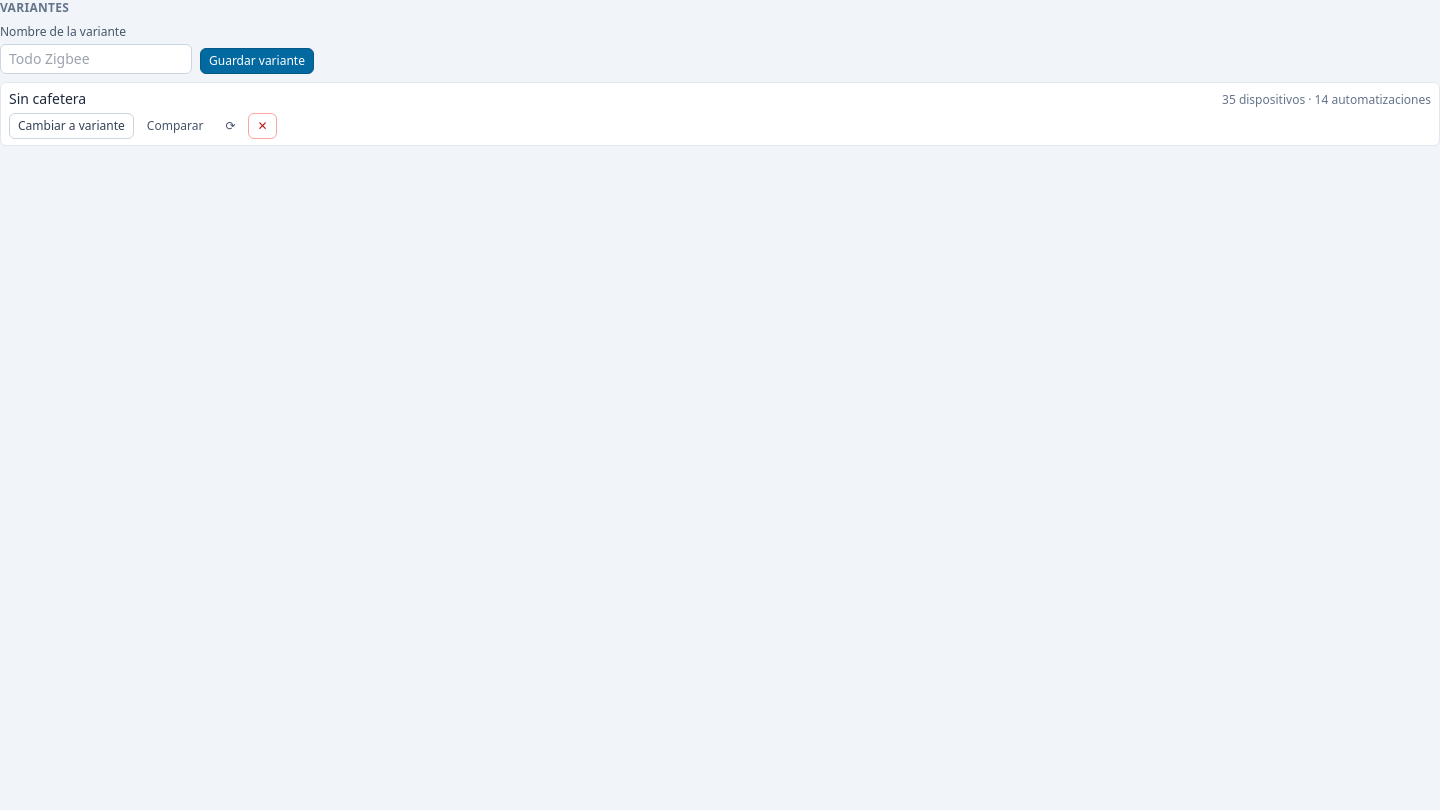
Scenario: comparar variantes con el coste del presupuesto › la tabla muestra el coste de cada variante y la diferencia
Click the button with aria-label "Comparar Sin cafetera con el proyecto actual": (175, 126) [138,113,212,139]
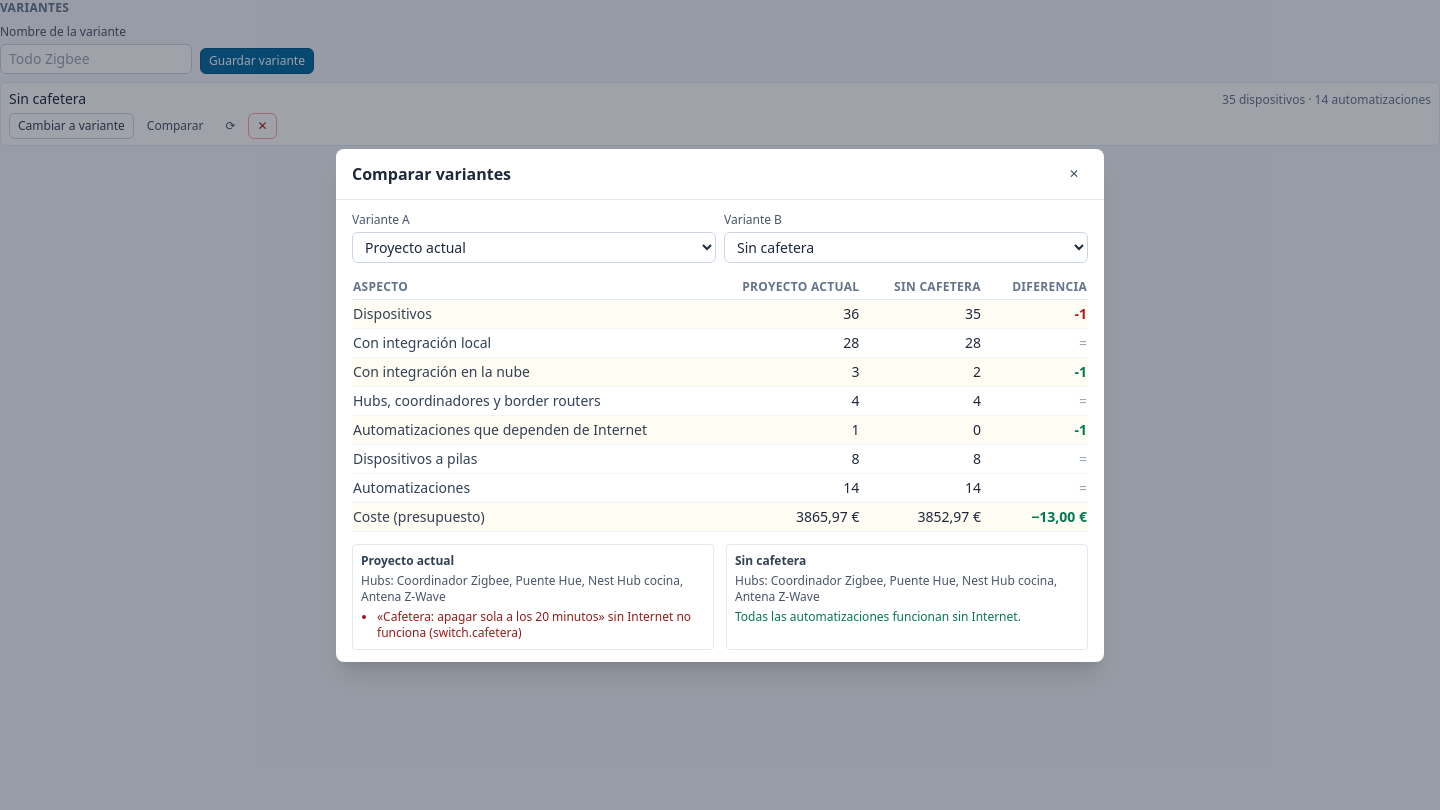
expect the cell "3865,97 €" is shown: met, box [710,502,867,531]
expect the cell "−13,00 €" is shown: met, box [989,502,1088,531]
